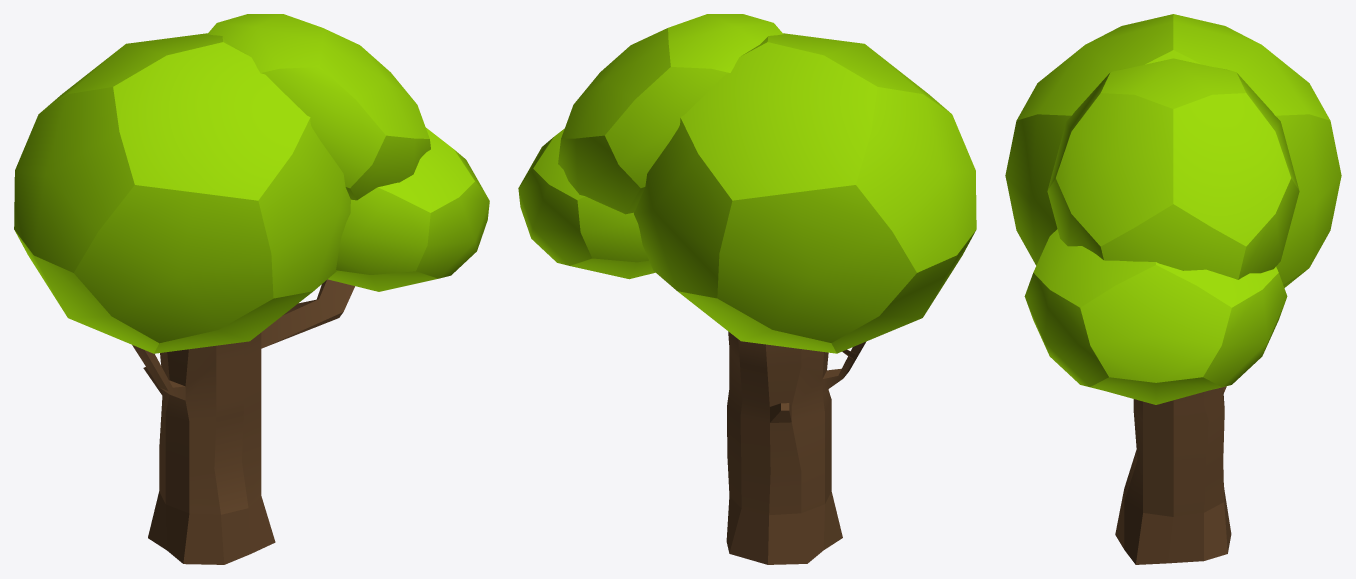
The model's file is tree01.fbx.
The picture shows the model from 3 angles, left to right: view 1: azimuth 30°, elevation 25°; view 2: azimuth 150°, elevation 25°; view 3: azimuth 270°, elevation 25°; orthographic projection.
Visible parts, largest first — view 1: Tree, Stump; view 2: Tree, Stump; view 3: Tree, Stump.
Part boxes in pixels (box(x1,y1,x2,y2)): Tree: box(14, 14, 489, 514); Stump: box(148, 491, 275, 564); Tree: box(518, 14, 976, 515); Stump: box(726, 491, 842, 564); Tree: box(1005, 14, 1341, 516); Stump: box(1115, 489, 1231, 564).
Size of what is drawn, in the model's own units: 9.64 by 10.77 by 6.49.
